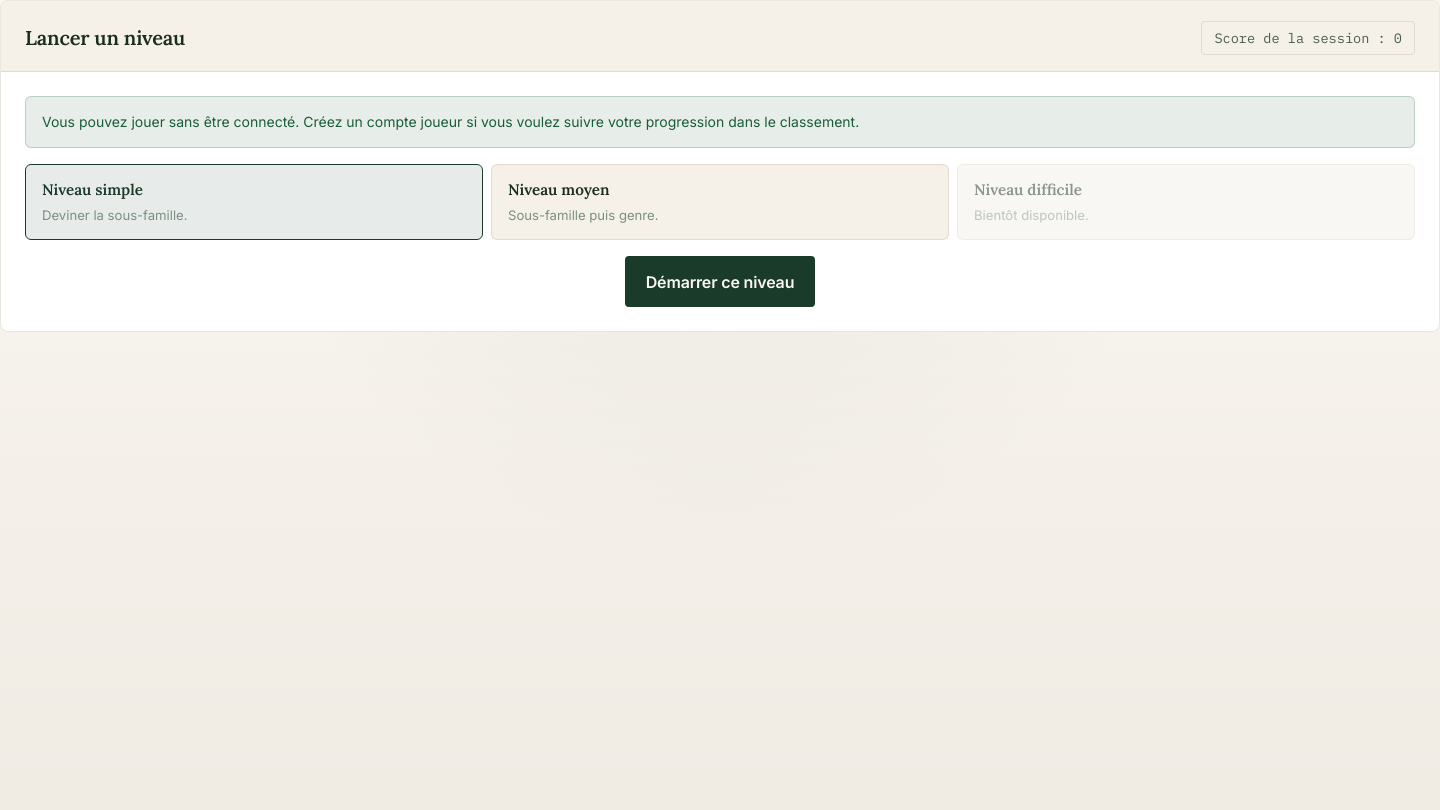
Test: GamePage › plays an easy question and displays success feedback
Click the button "Démarrer ce niveau". click: click(720, 282)
box: x1=625 y1=256 x2=815 y2=307
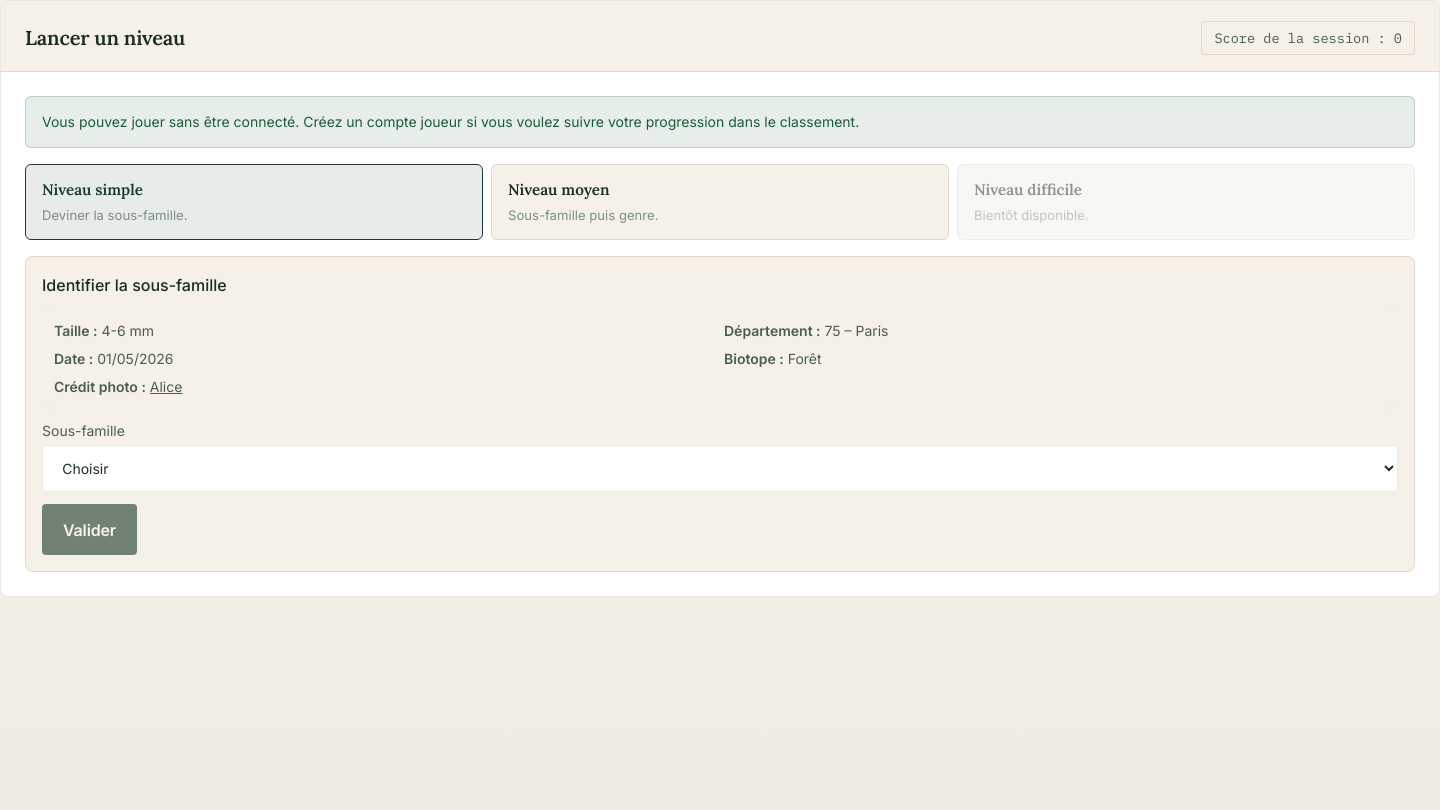
Check: the text "Identifier la sous-famille" is shown, box x1=42 y1=275 x2=227 y2=295
Select "Formicinae" in the dropdown labelled "Sous-famille". click: (720, 469)
box: x1=42 y1=445 x2=1398 y2=492
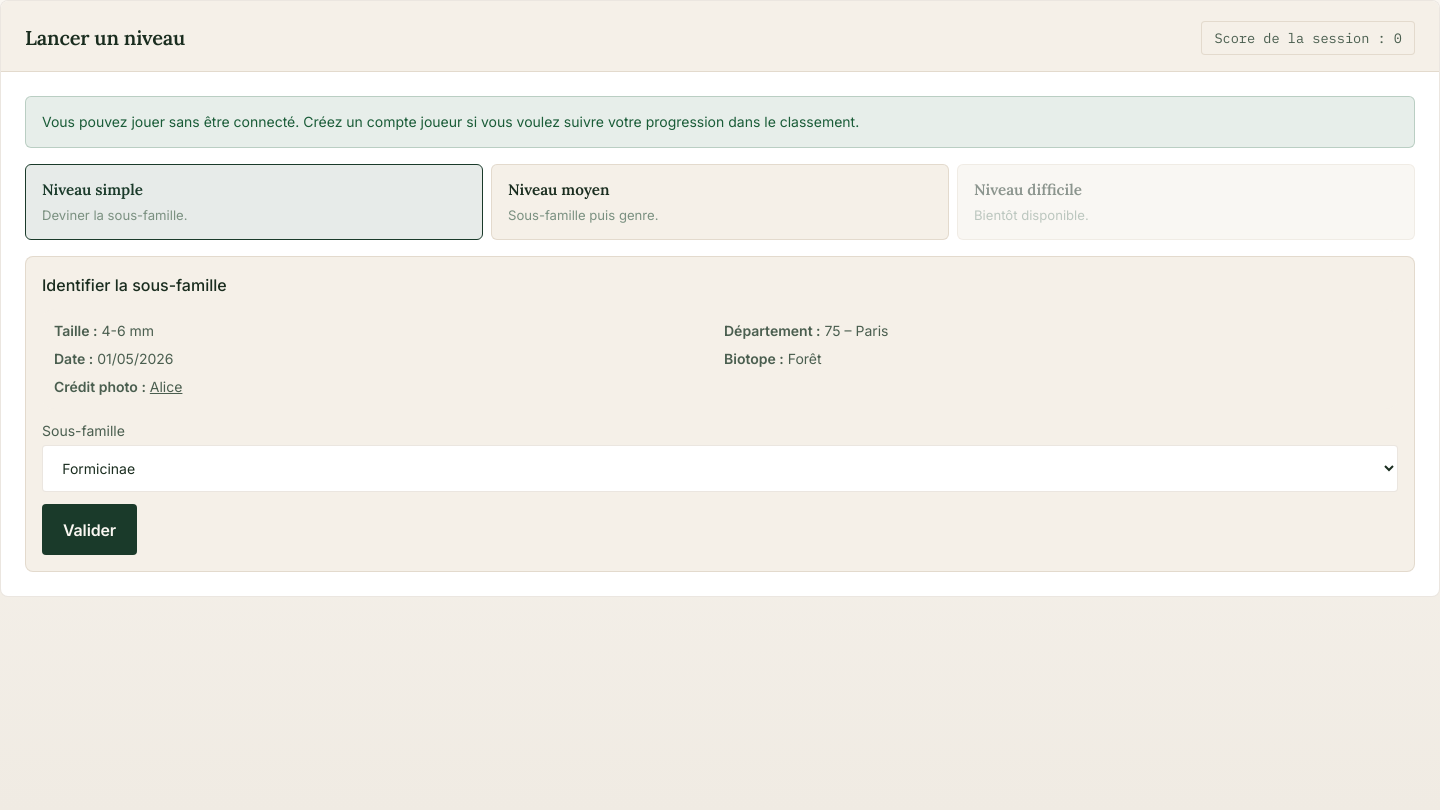
Click the button "Valider". click: click(90, 529)
box: x1=42 y1=504 x2=137 y2=555
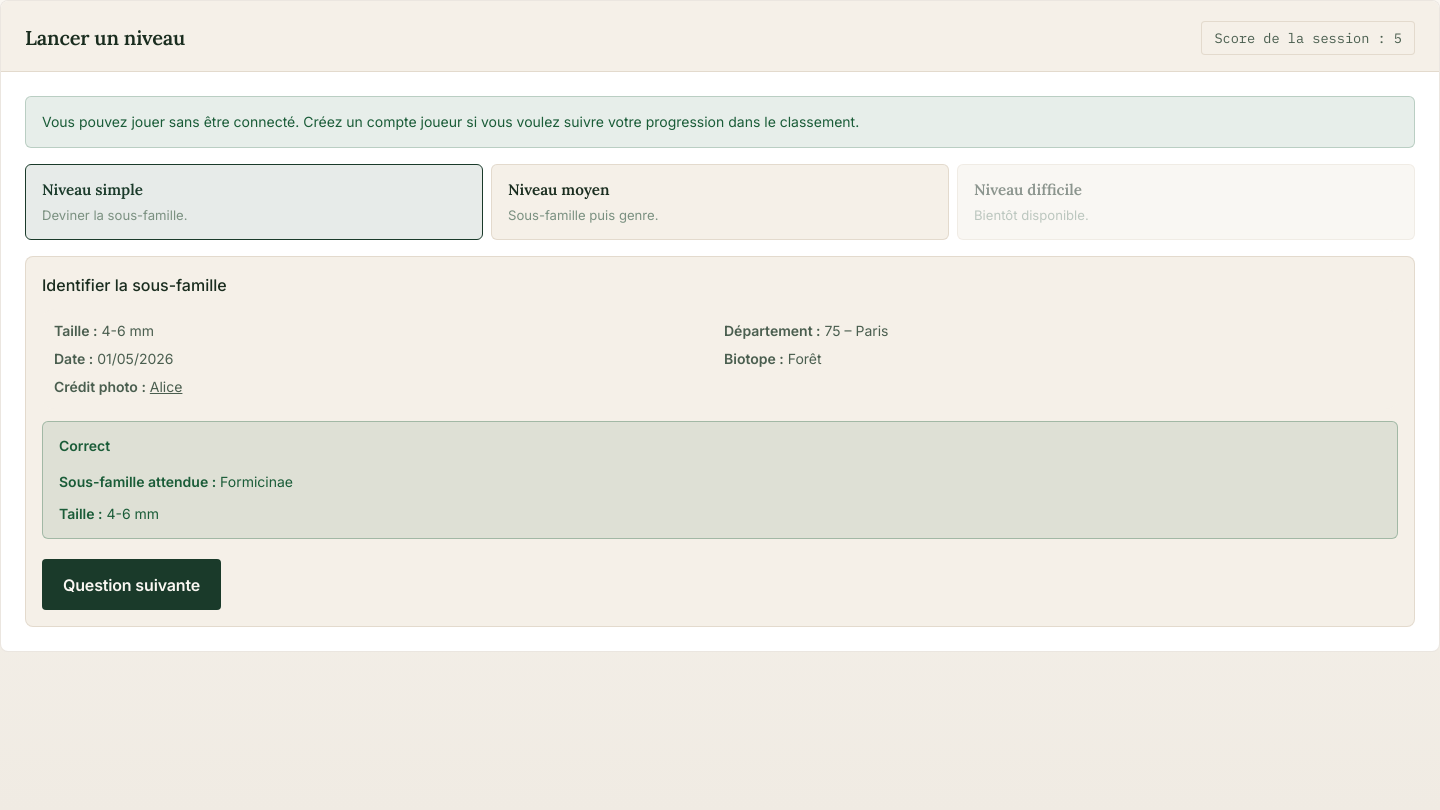
Check: the text "Correct" is shown, box x1=59 y1=437 x2=110 y2=454
Check: the text "Score de la session : 5" is shown, box x1=1201 y1=21 x2=1415 y2=55
